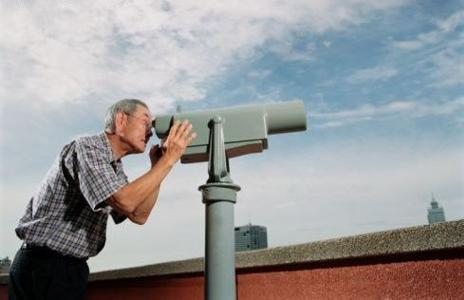person: (9, 99, 195, 299)
